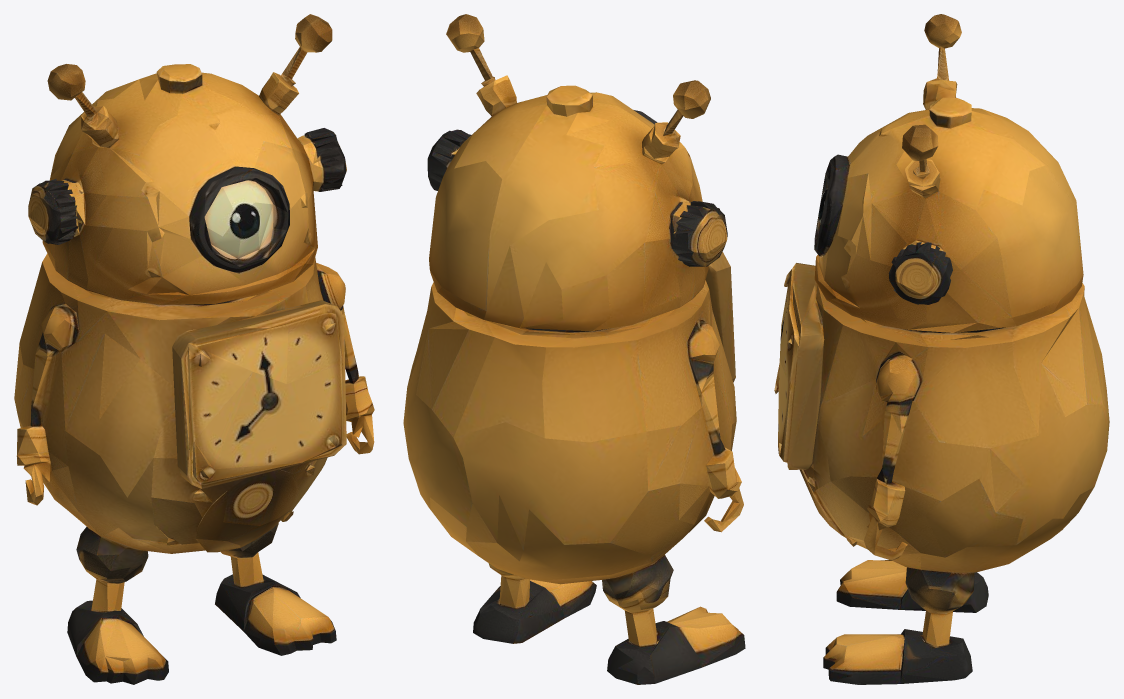
The model's file is automato-pesado.glb.
3 renders of one model, left to right at view 1: azimuth 30°, elevation 25°; view 2: azimuth 150°, elevation 25°; view 3: azimuth 270°, elevation 25°, orthographic. The views are drawn at different scales.
Size of the model in its own units: 1.1 by 1.9 by 1.02.
Materials: 1 (1 with a texture image).
